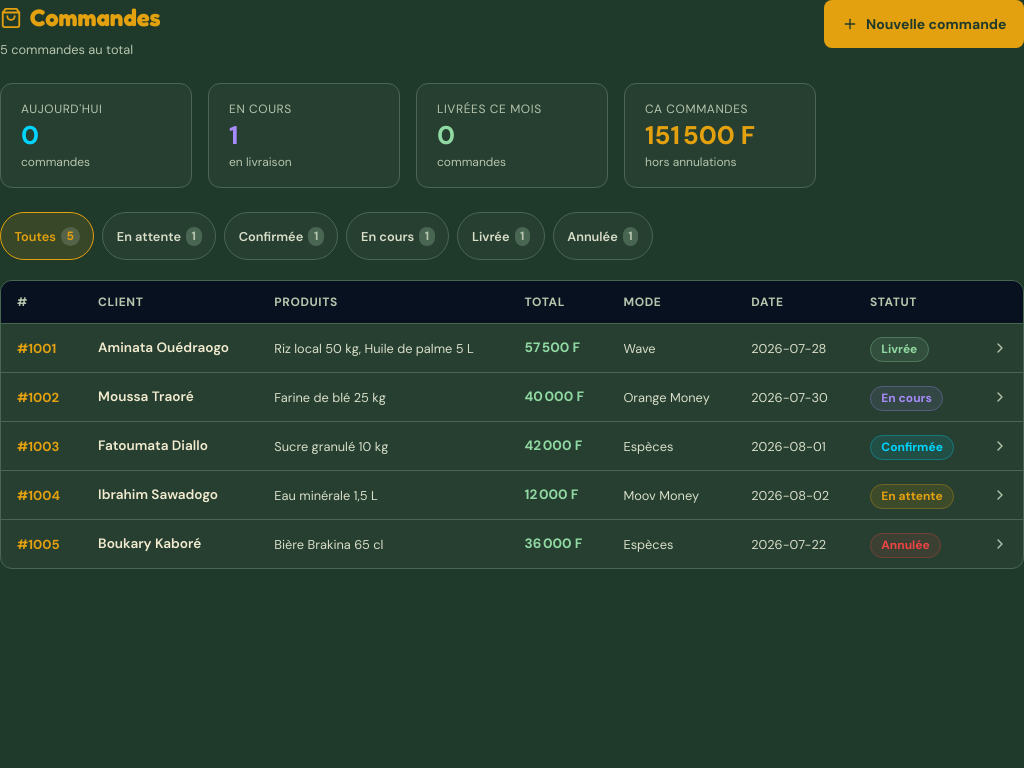
Test case: CommandesPage › 23 — modal : commande "En attente" → bouton "Passer à : Confirmée"
Click the text "Ibrahim Sawadogo": (170, 495) [82, 471, 258, 520]
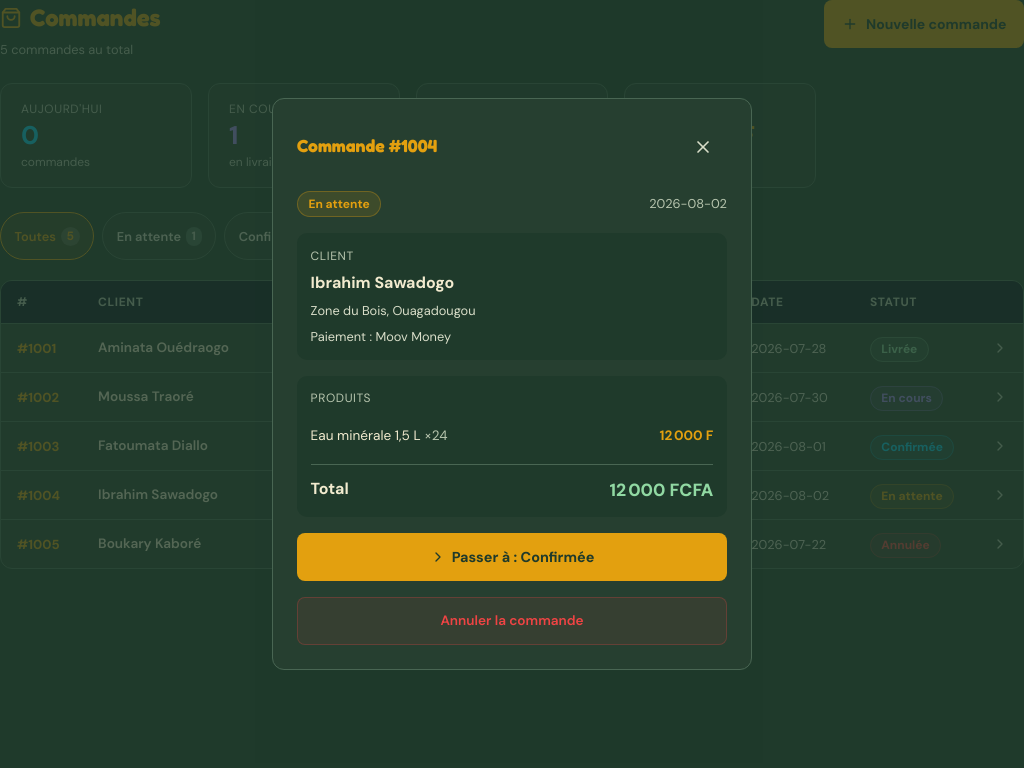
Result: the button "Passer à : Confirmée" is shown at [297, 533, 727, 581]
